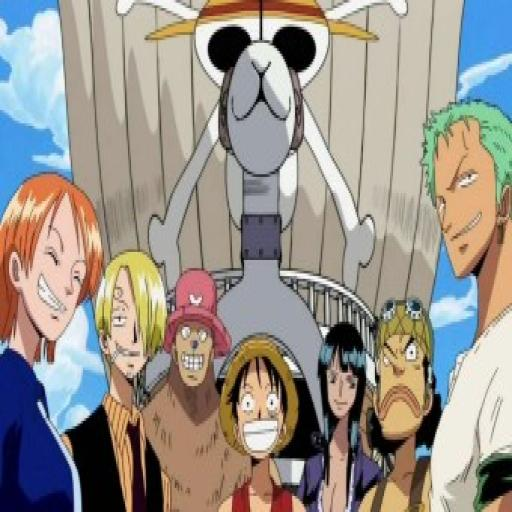Luffy: (218, 314, 304, 468)
Nami: (0, 164, 106, 358)
NicoRobin: (318, 306, 371, 452)
Usopp: (362, 295, 444, 458)
Zoro: (419, 96, 512, 282)
sanji: (93, 246, 168, 388)
